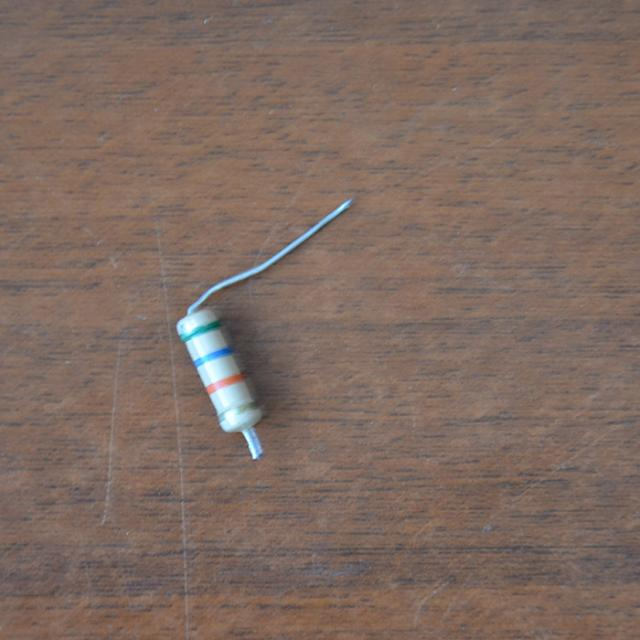blue: (196, 347, 232, 366)
gold: (219, 400, 256, 420)
green: (183, 321, 219, 340)
orange: (206, 372, 243, 393)
resistor: (170, 303, 273, 447)
